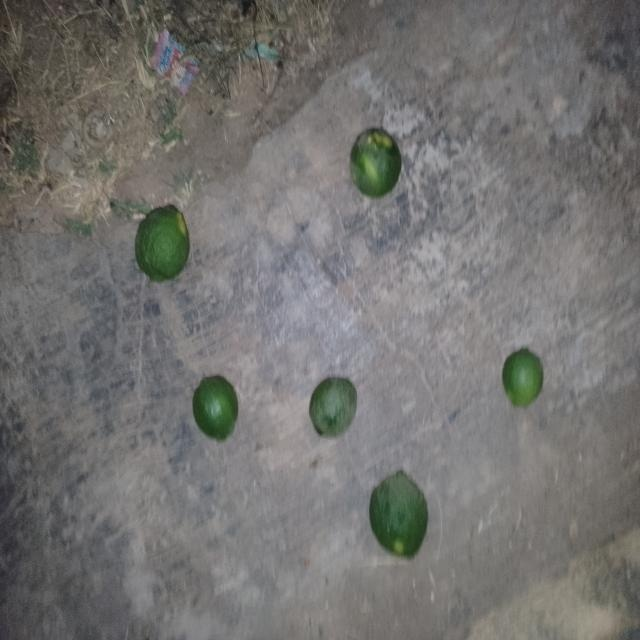agrume: (120, 195, 206, 299), (338, 113, 418, 213), (366, 460, 437, 566), (186, 359, 251, 453), (497, 340, 554, 424), (309, 363, 360, 447)
